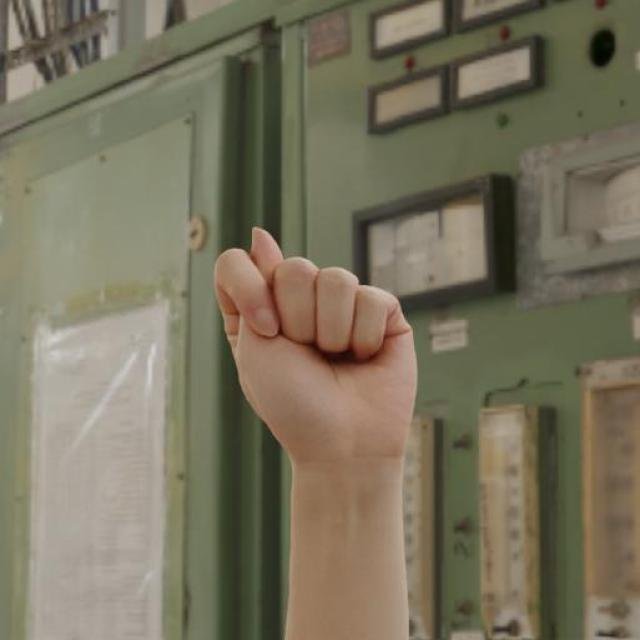T: (210, 224, 420, 468)
